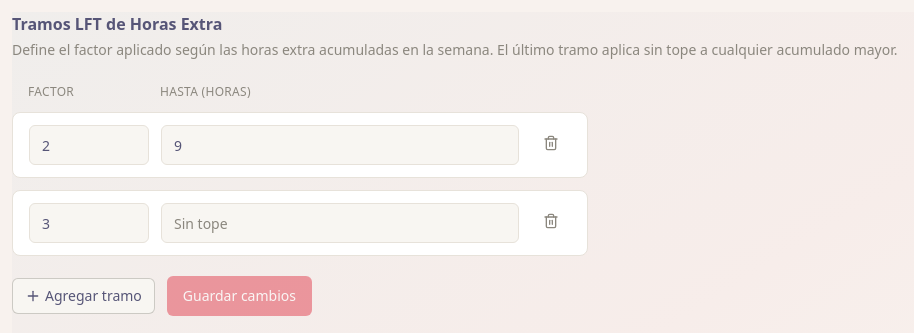
it: OvertimeLftTiersSection › removes a row when its delete button is clicked
Click the 2nd button named "Eliminar tramo" at (551, 221), box [543,213,559,229]
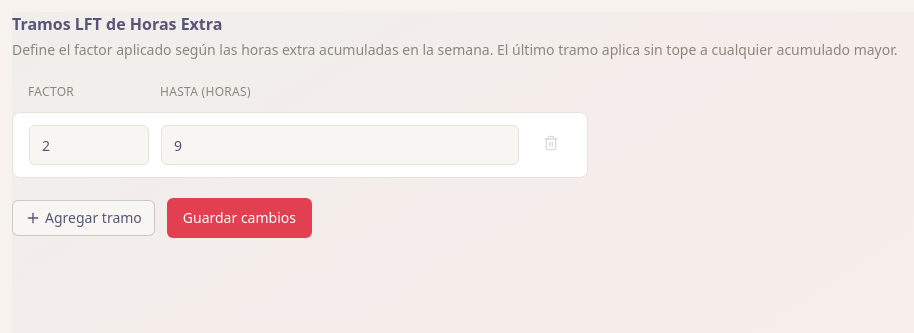
Check: the number of buttons named "Eliminar tramo" is 1, box [543,135,559,151]
